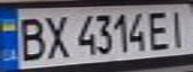1: (112, 10, 130, 54)
3: (93, 10, 115, 55)
4: (72, 10, 96, 57), (127, 9, 151, 53)
B: (12, 14, 48, 62)
E: (145, 8, 175, 52)
I: (163, 7, 193, 50)
X: (39, 11, 72, 61)
